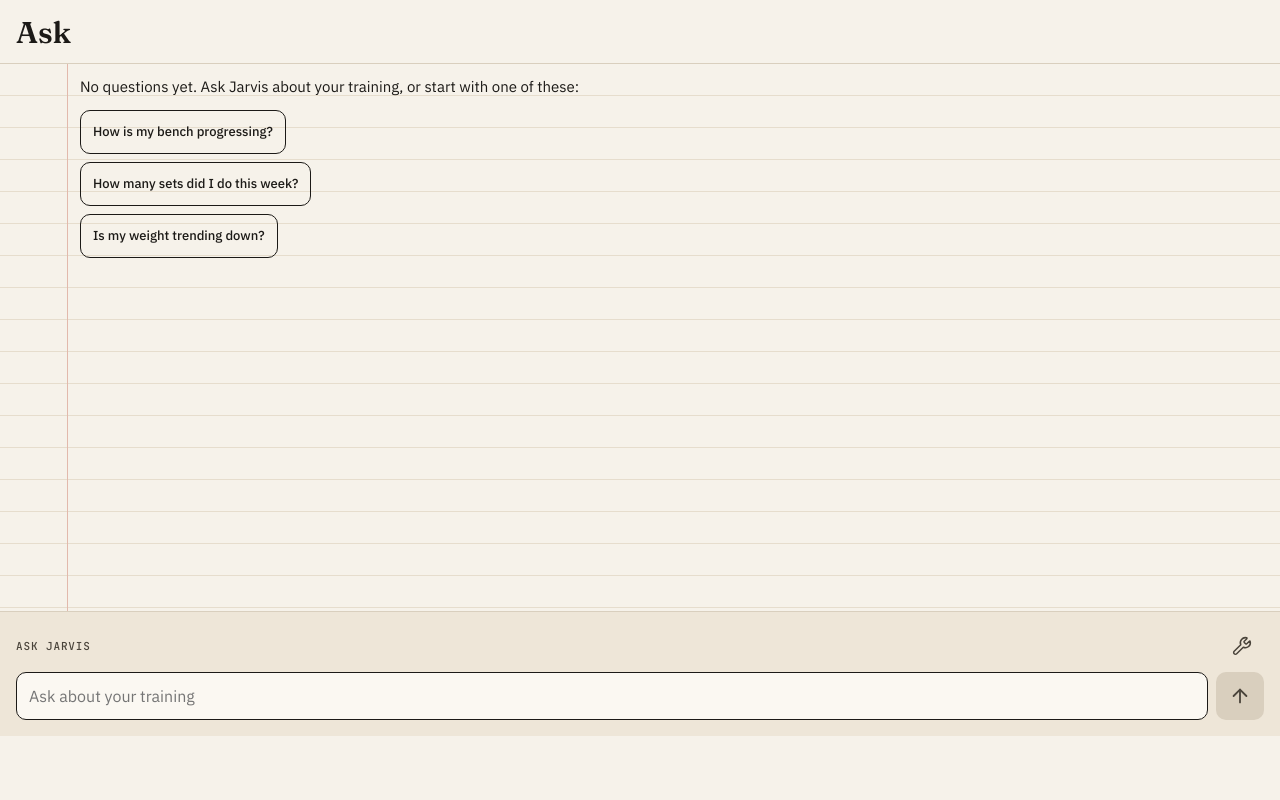
Ask page › has the Tools menu above the question box
What coordinates should you click on to do the following:
click the button named "Tools"
I would click on:
 (1242, 646)
Its box is [1220, 624, 1264, 668].
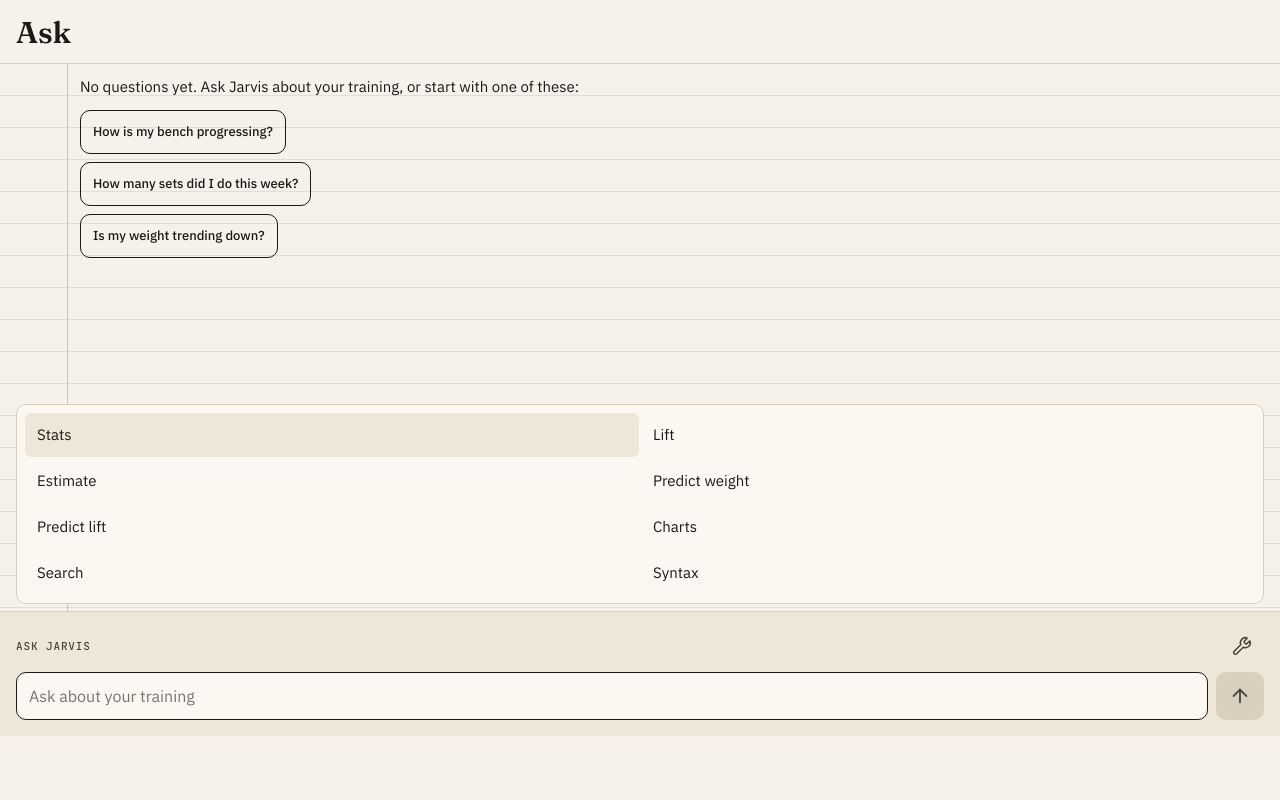
Now the menu item "Syntax" is shown, box [641, 551, 1255, 595]
